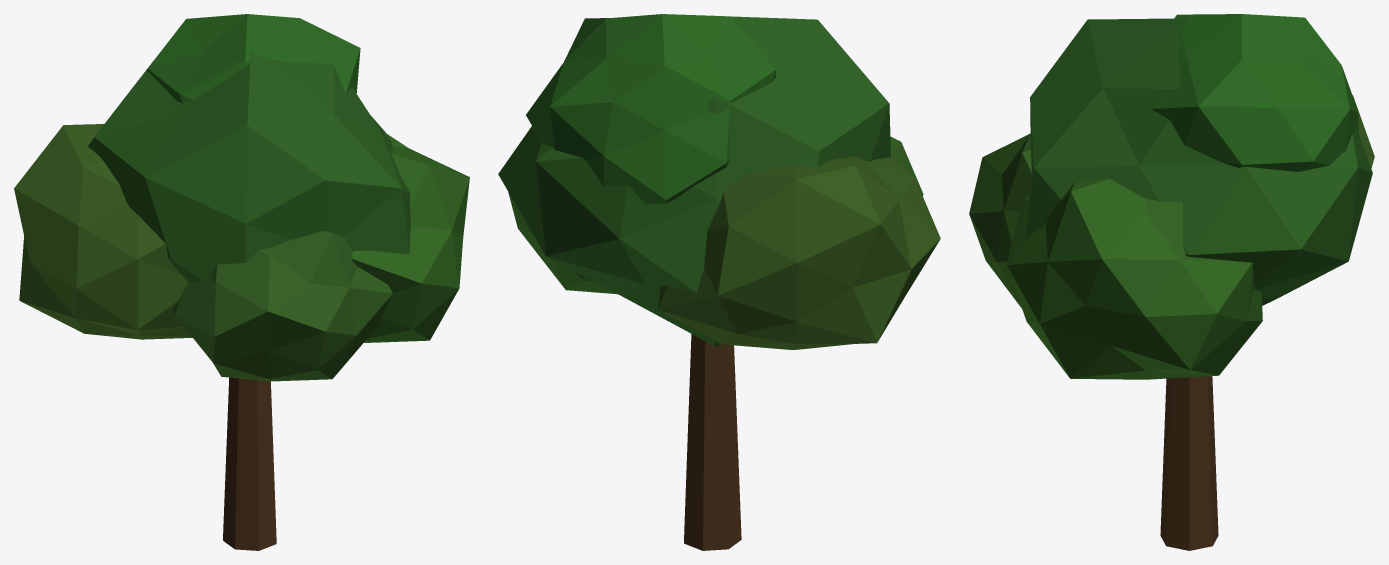
The model's file is broadleaf.glb.
3 renders of one model, left to right at view 1: azimuth 30°, elevation 25°; view 2: azimuth 150°, elevation 25°; view 3: azimuth 270°, elevation 25°, orthographic. The views are drawn at different scales.
Visible parts, largest first — view 1: broadleaf; view 2: broadleaf; view 3: broadleaf.
Boxes of the visible parts, box(x1,y1,x2,y2) form: broadleaf: box(14, 14, 469, 550); broadleaf: box(498, 14, 940, 550); broadleaf: box(969, 14, 1374, 550).
Size of the model in its own units: 5.45 by 6.74 by 4.63.
